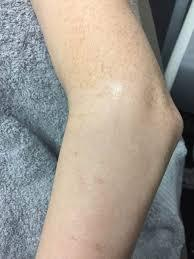Goosebumps: (32, 0, 181, 258)
